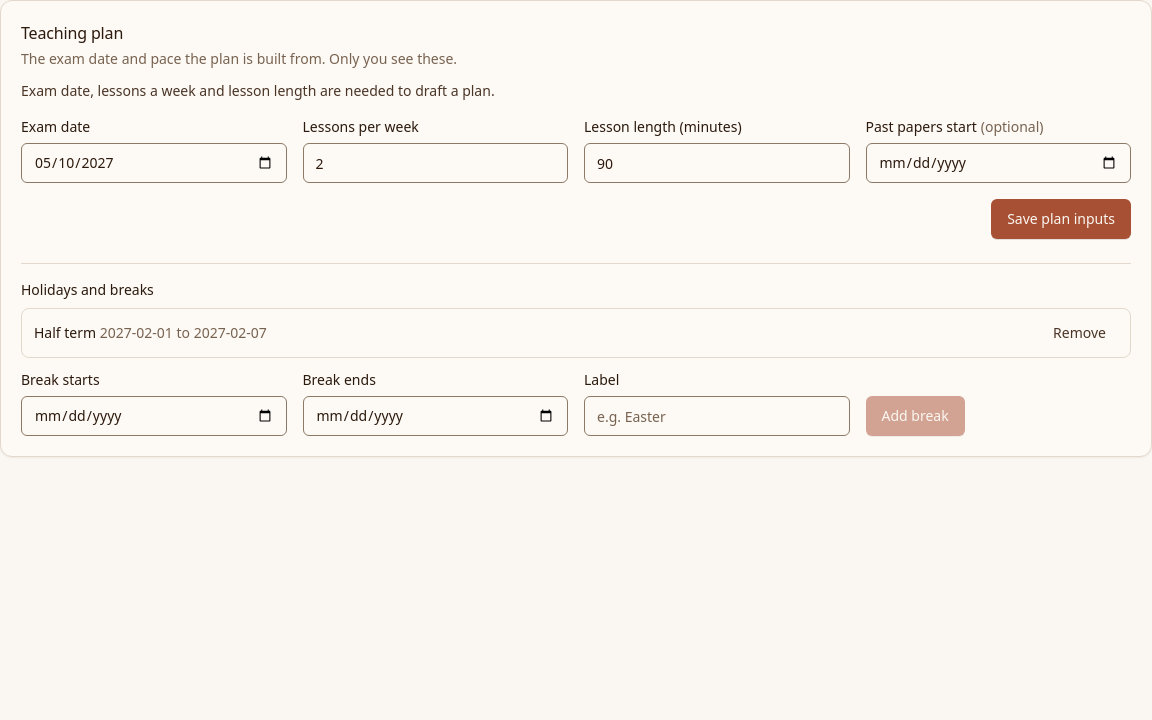
Scenario: adding a break posts the dates and label
The width and height of the screenshot is (1152, 720).
In the date field labelled "Break starts": point(154, 416) [21,396,286,436], type "2027-04-01"
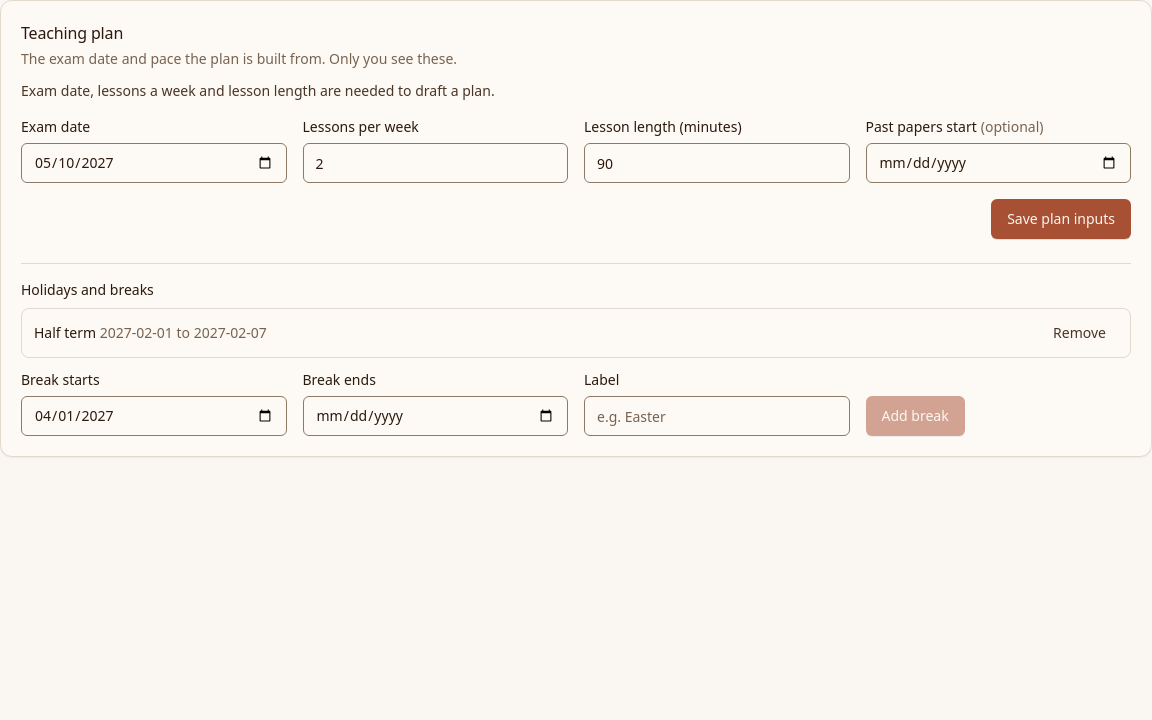
In the date field labelled "Break ends": point(435, 416) [302,396,568,436], type "2027-04-12"
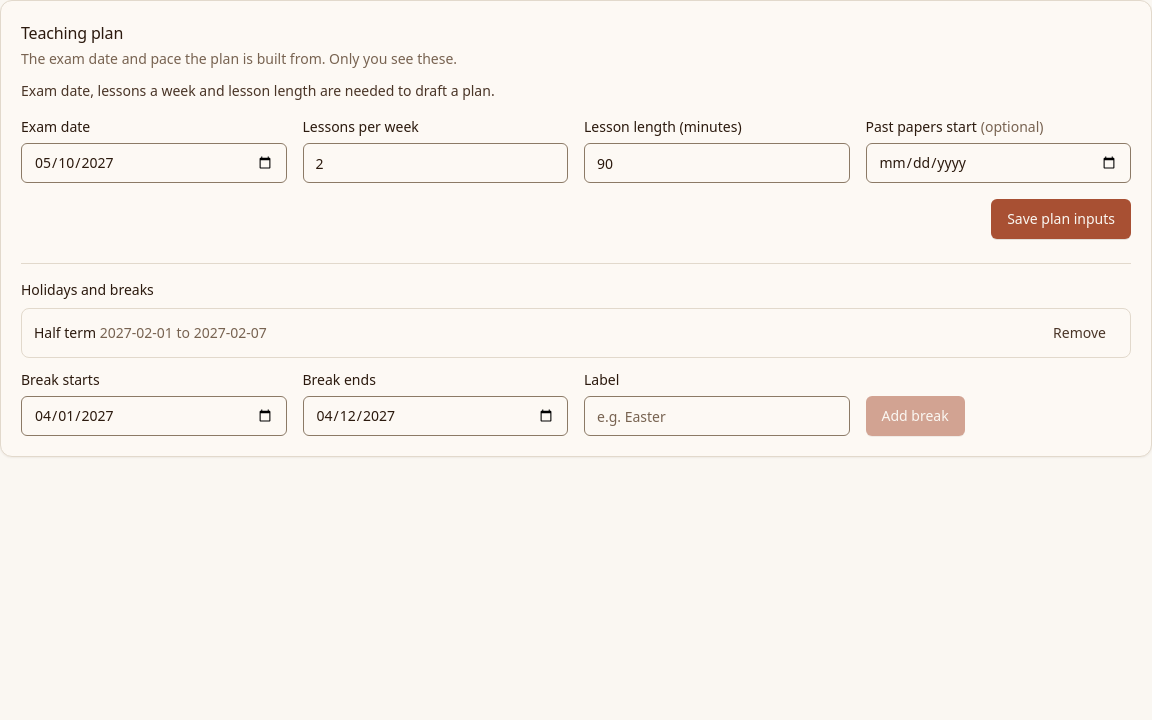
In the field labelled "Label": point(717, 416) [584,396,850,436], type "Easter"
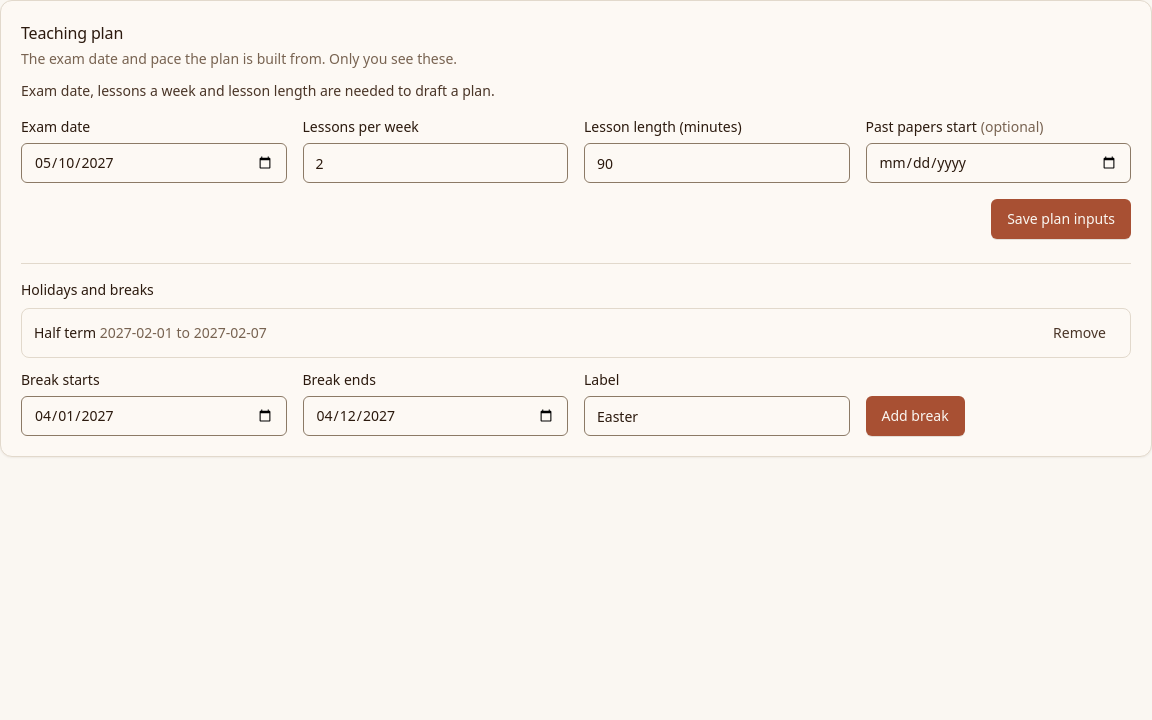
Click the button "Add break": point(915, 416) [866,396,965,436]
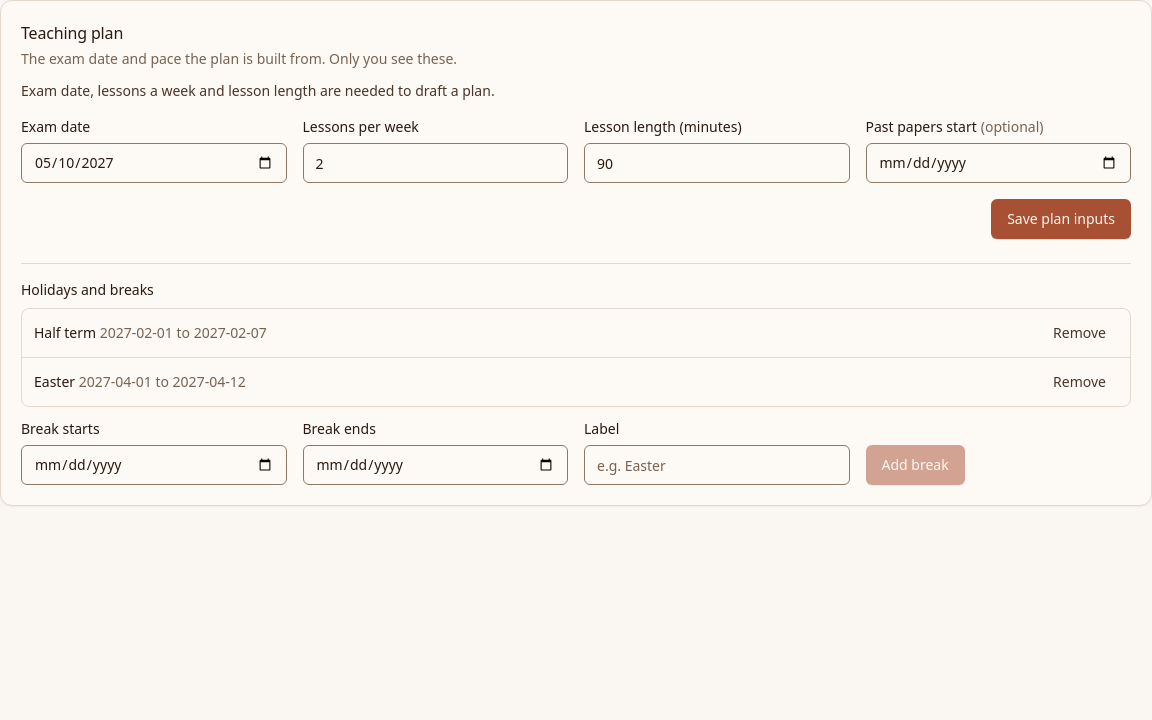
Expected: the text "Half term" is shown, [34,323,96,342]
Result: the field labelled "Label" is empty at [584,445,850,485]
Result: the text "Easter" is shown at [34,372,75,391]
